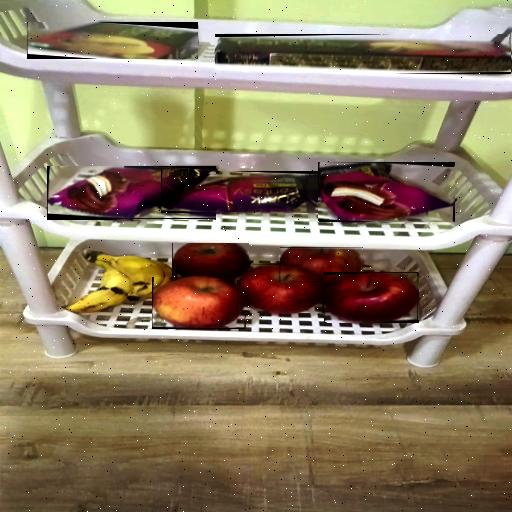Apple: (153, 277, 245, 328), (324, 273, 418, 322), (238, 265, 326, 313), (281, 247, 362, 282), (173, 243, 249, 280)
Choco Fills: (216, 37, 510, 73), (28, 22, 197, 59)
Choco Pie: (48, 166, 216, 219), (319, 163, 454, 221), (161, 174, 323, 213)
